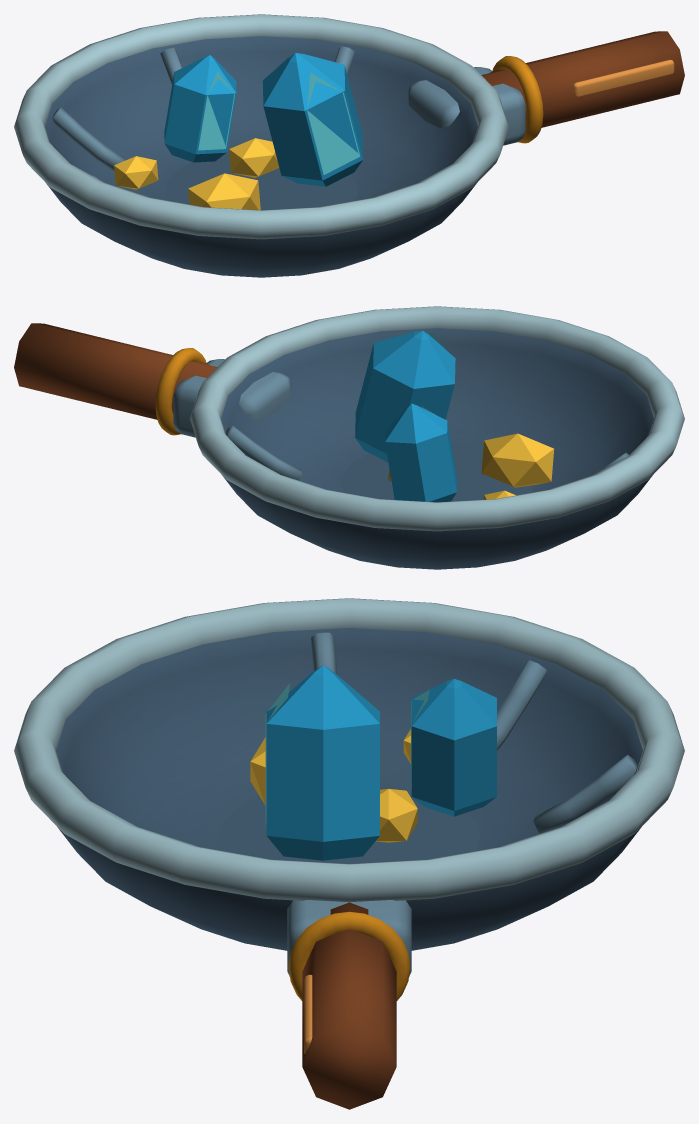
The model's file is crystal_pan.glb.
3 renders of one model, top to bottom at view 1: azimuth 30°, elevation 25°; view 2: azimuth 150°, elevation 25°; view 3: azimuth 270°, elevation 25°, orthographic. The views are drawn at different scales.
Parts seen in each view (by area): view 1: crystal_pan_runtime; view 2: crystal_pan_runtime; view 3: crystal_pan_runtime.
Part boxes in pixels (left/top/right/bottom): crystal_pan_runtime: left=14, top=14, right=684, bottom=277; crystal_pan_runtime: left=14, top=306, right=684, bottom=569; crystal_pan_runtime: left=14, top=598, right=684, bottom=1109.
Bounding box in the file's own units: 1.3 × 0.3344 × 0.8982.
1 material, 1 textured.
